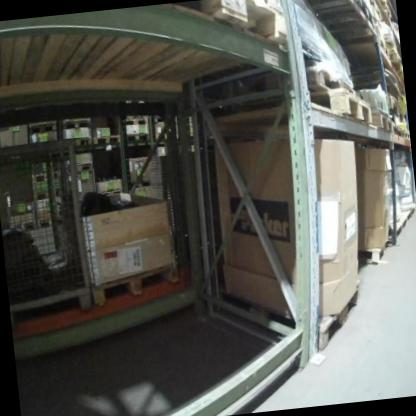pallet: (221, 275, 369, 360), (210, 82, 376, 142), (182, 0, 296, 60), (87, 258, 183, 307), (358, 236, 394, 267), (372, 108, 394, 138), (386, 212, 409, 238), (90, 130, 121, 148), (26, 119, 58, 133), (119, 116, 150, 130), (37, 215, 68, 229), (60, 116, 90, 130), (122, 131, 151, 145), (8, 220, 37, 234), (30, 169, 63, 181), (33, 187, 64, 199), (63, 161, 94, 173), (64, 135, 92, 148), (97, 187, 124, 197), (127, 179, 153, 188), (403, 204, 416, 221), (401, 129, 410, 141)
stillage: (0, 136, 103, 331)
